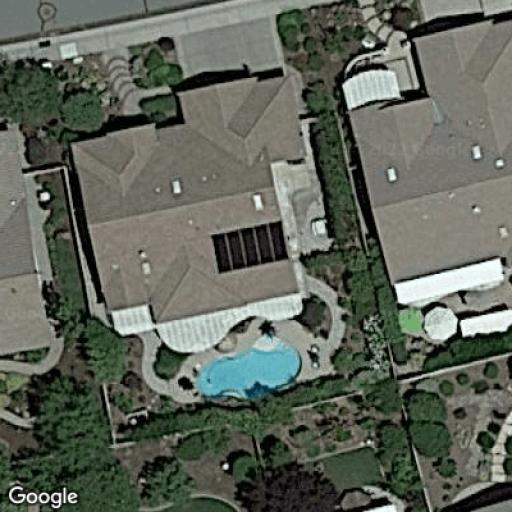solar-panel: (211, 220, 289, 277)
